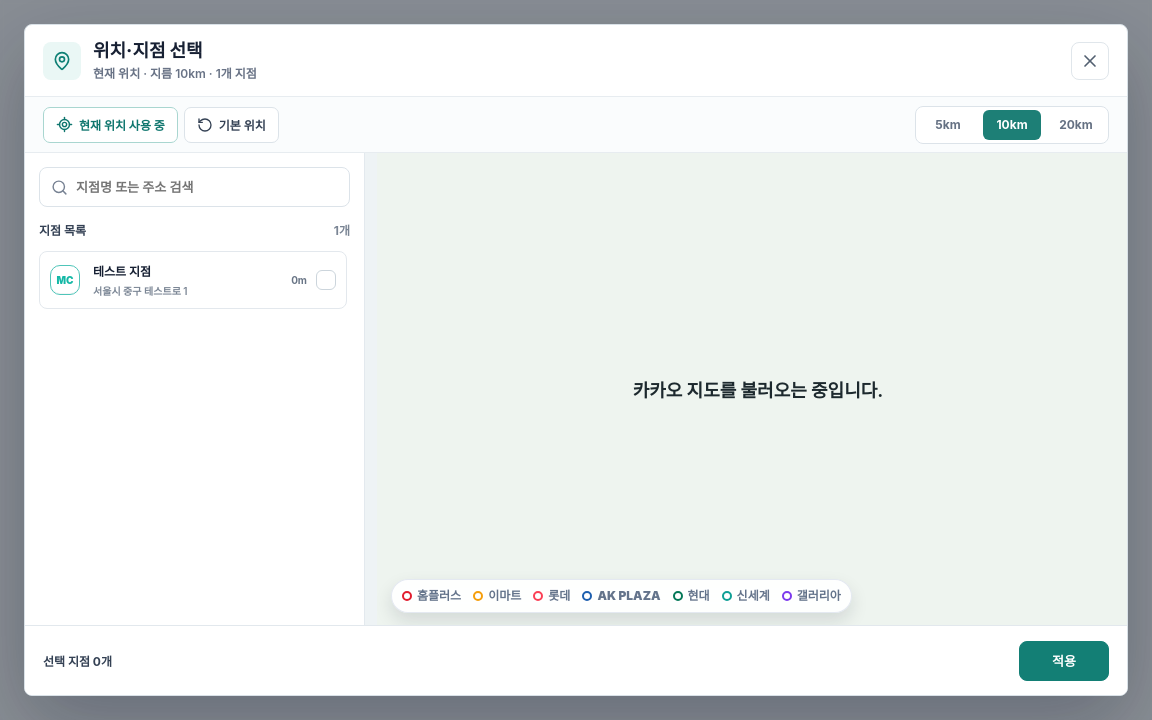
Test: LocationPickerModal branch details › shows the selected branch information and actions
Click the button "MC 테스트 지점 서울시 중구 테스트로 1 0m" at x=122, y=272, box [39, 251, 347, 309]
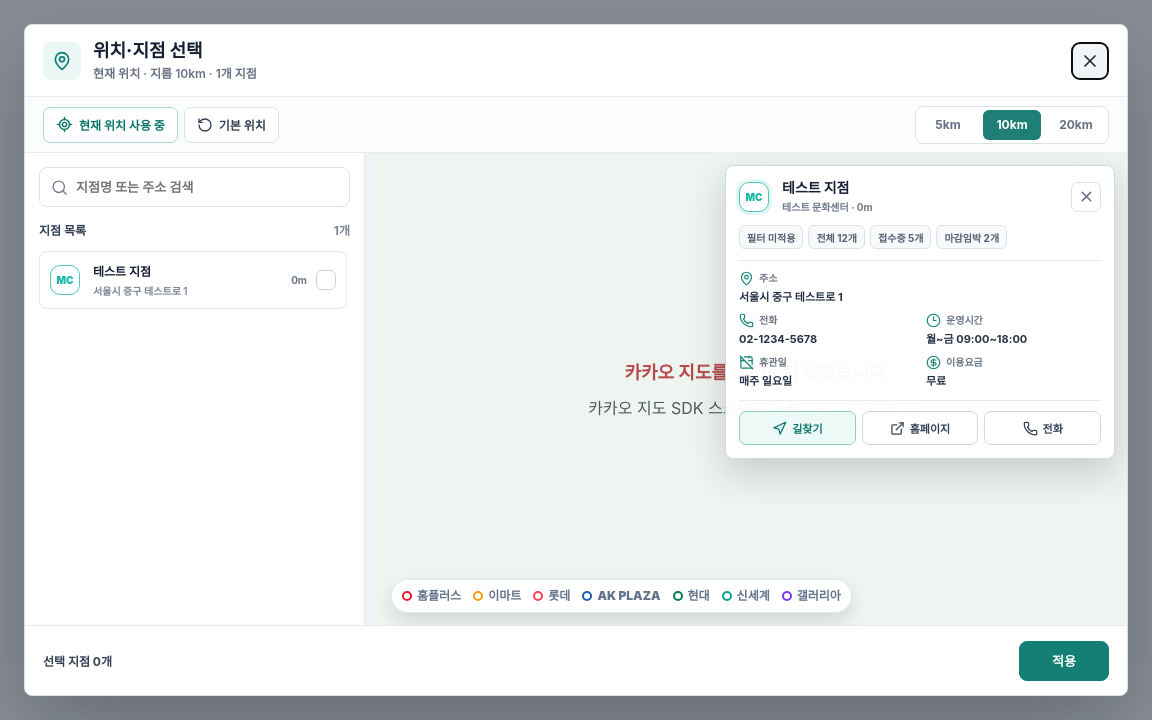
Expected: the element named "선택 지점 정보" is shown, [725, 165, 1115, 459]
Expected: the text "서울시 중구 테스트로 1" is shown 2 times, [93, 285, 188, 297]; [739, 290, 843, 304]
Expected: the text "월~금 09:00~18:00" is shown, [926, 332, 1027, 346]
